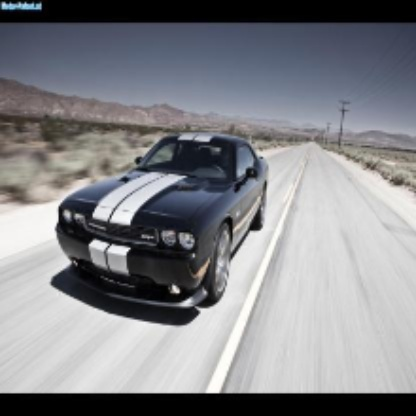Vehicle: (56, 126, 270, 318)
